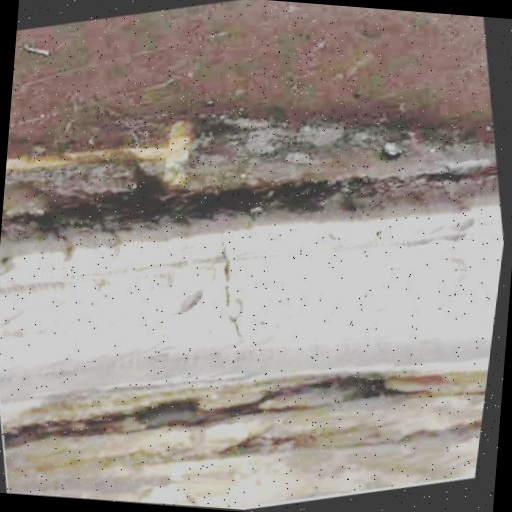crack: (197, 222, 266, 351)
